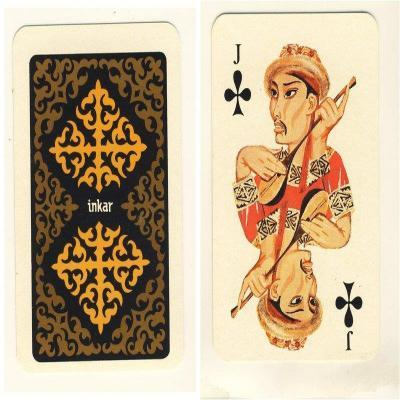graphics: (13, 22, 184, 374), (212, 12, 382, 363)
